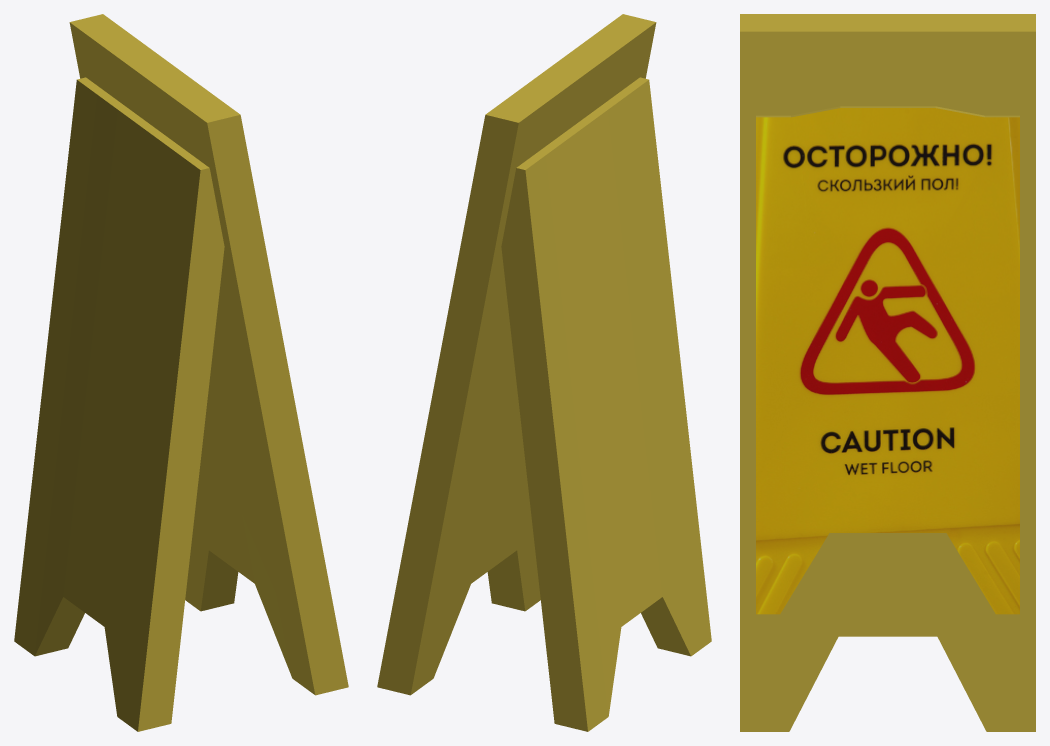
File: Close.fbx
3 views of the same model, side by side, from view 1: azimuth 30°, elevation 25°; view 2: azimuth 150°, elevation 25°; view 3: azimuth 270°, elevation 25° (orthographic). The views are drawn at different scales.
Parts seen in each view (by area): view 1: Cube; view 2: Cube; view 3: Cube.
Boxes of the visible parts, <box> form: Cube: <box>14,14,348,731</box>; Cube: <box>377,14,711,731</box>; Cube: <box>740,14,1035,731</box>.
Bounding box in the file's own units: 79.31 × 222 × 92.66.
